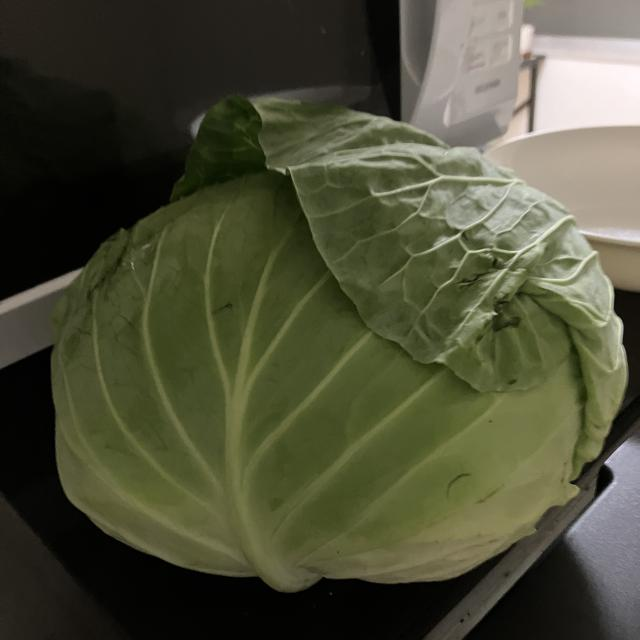cabbage: (42, 88, 631, 596)
